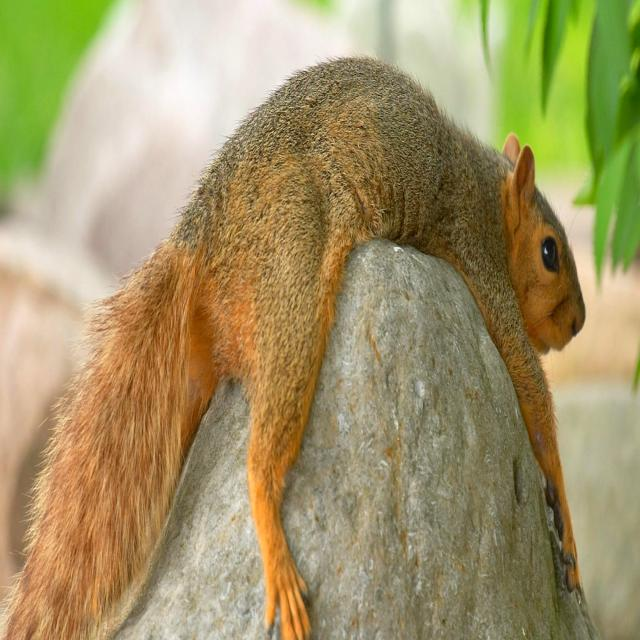squirrel: (2, 57, 585, 639)
